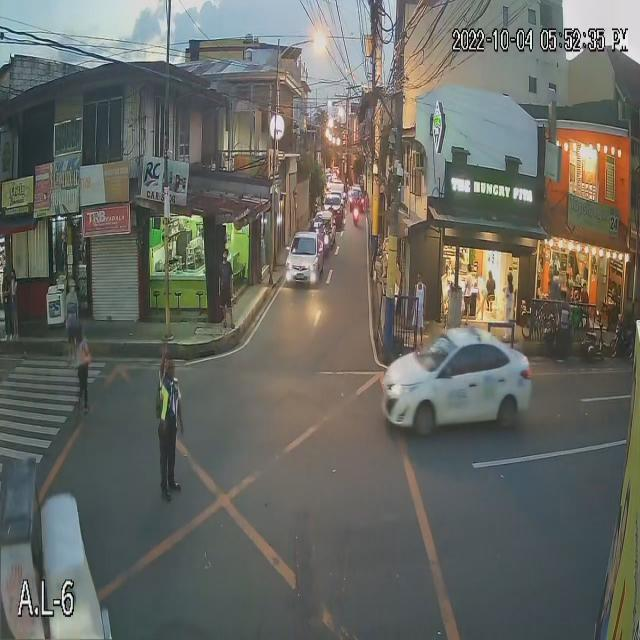motorcycle: (350, 205, 364, 225)
rider: (350, 192, 363, 212)
